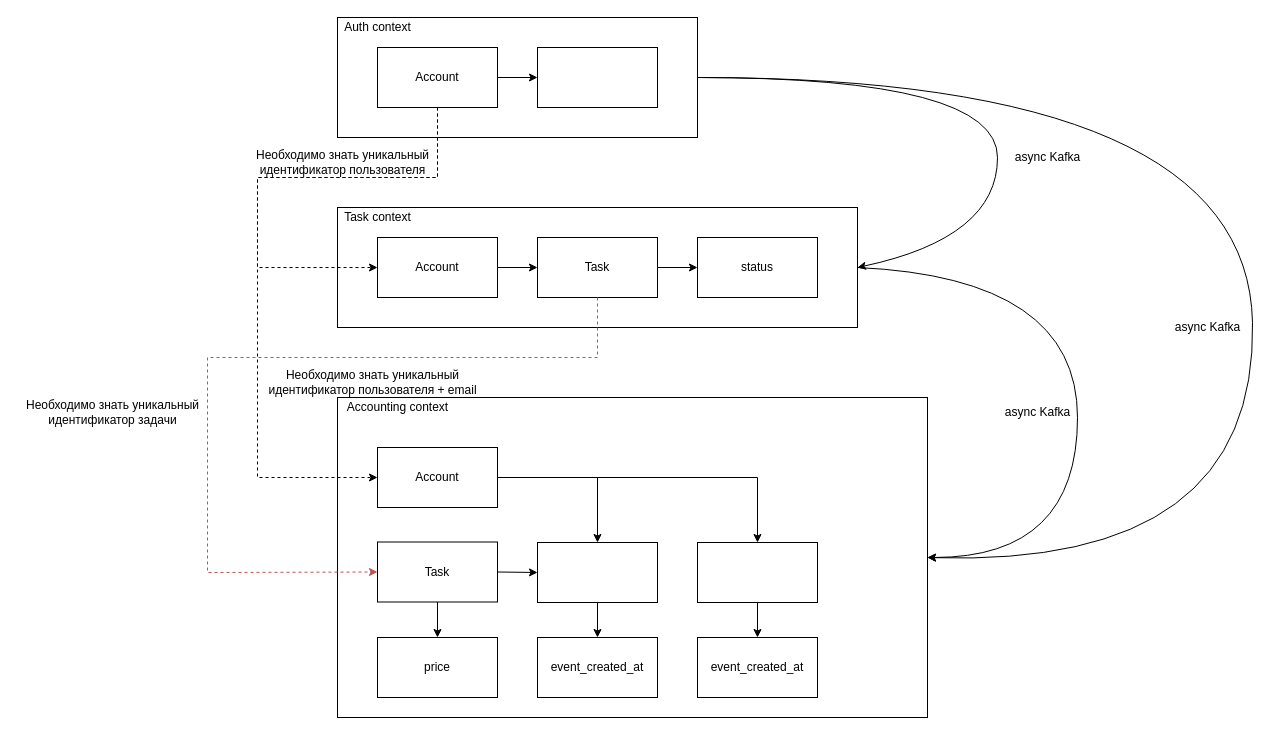
The diagram is 1270 pixels wide and 735 high, and some of its shapes have lost their labels. Here are the shapes that lost their labels. From the top down, the centre of each, then its label:
point 597,77: meta
point 597,572: audit_log
point 757,572: payment_log
